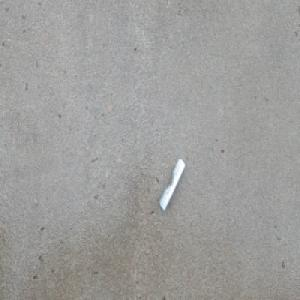ClampPart: (158, 157, 185, 212)
